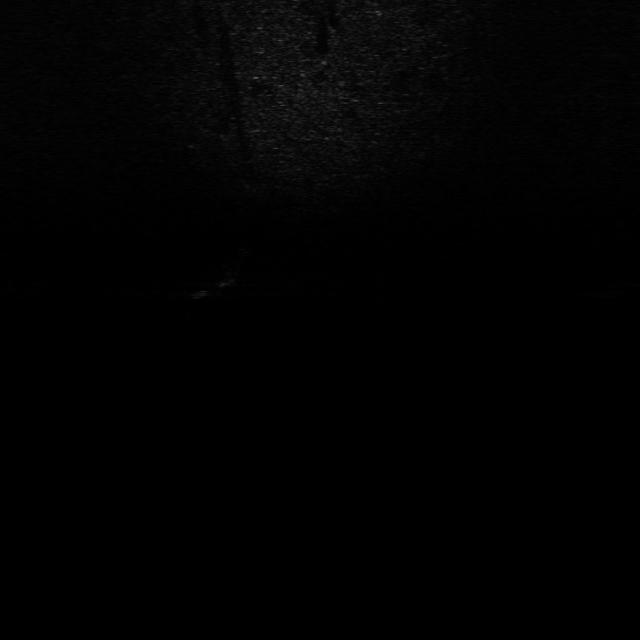human body: (180, 243, 254, 304)
